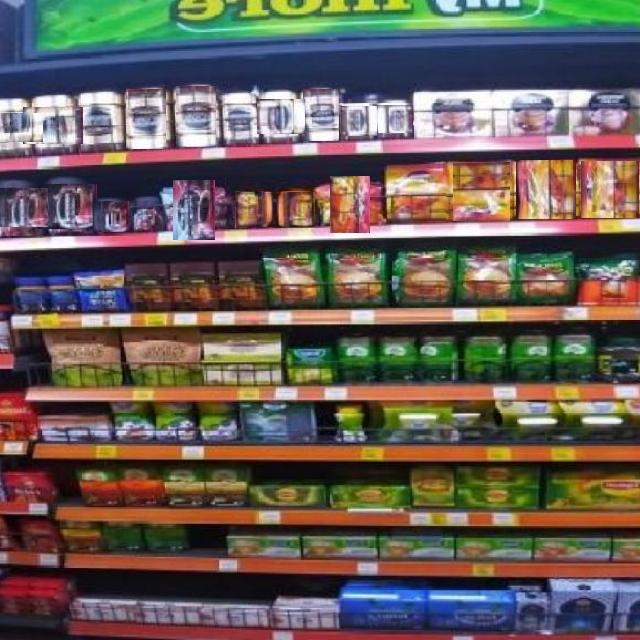Coffee: (517, 159, 576, 219), (387, 163, 446, 222), (452, 162, 510, 221), (582, 160, 640, 218), (39, 184, 97, 229), (176, 85, 216, 147), (174, 180, 215, 240), (126, 89, 166, 149), (80, 92, 119, 153), (24, 106, 83, 144), (330, 177, 370, 233), (302, 89, 339, 141), (0, 187, 48, 227), (253, 100, 305, 134), (223, 92, 257, 144), (235, 191, 273, 227), (278, 191, 315, 227), (0, 113, 43, 142), (93, 200, 129, 232), (341, 106, 377, 136), (375, 105, 413, 133), (133, 198, 162, 233)
